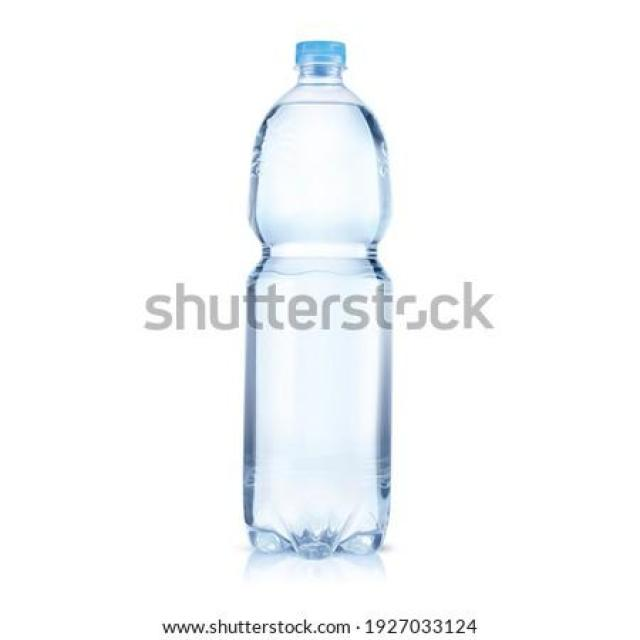bottle: (231, 22, 413, 587)
